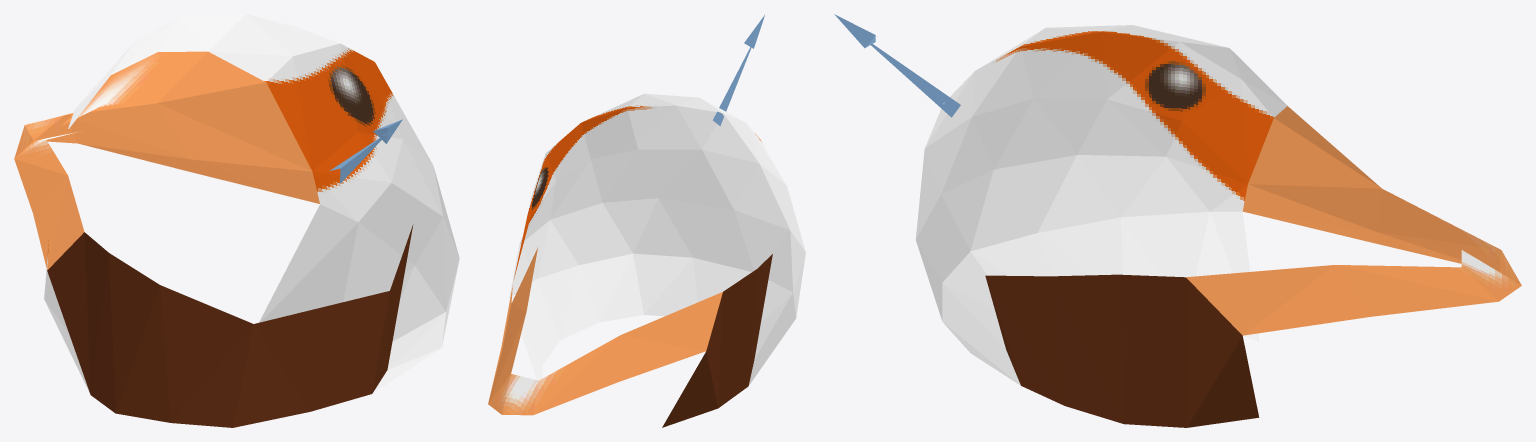
The model's file is ps2_save-icons_pachislotgatchaman.glb.
The picture shows the model from 3 angles, left to right: view 1: azimuth 30°, elevation 25°; view 2: azimuth 150°, elevation 25°; view 3: azimuth 270°, elevation 25°; orthographic projection. The views are drawn at different scales.
Parts seen in each view (by area): view 1: static.ico; view 2: static.ico; view 3: static.ico.
Part boxes in pixels (x1=…): static.ico: x1=14, y1=14, x2=459, y2=427; static.ico: x1=488, y1=15, x2=805, y2=427; static.ico: x1=834, y1=14, x2=1521, y2=427.
Size of the model in its own units: 2.28 by 2.5 by 4.26.
Materials: 1 (1 with a texture image).
